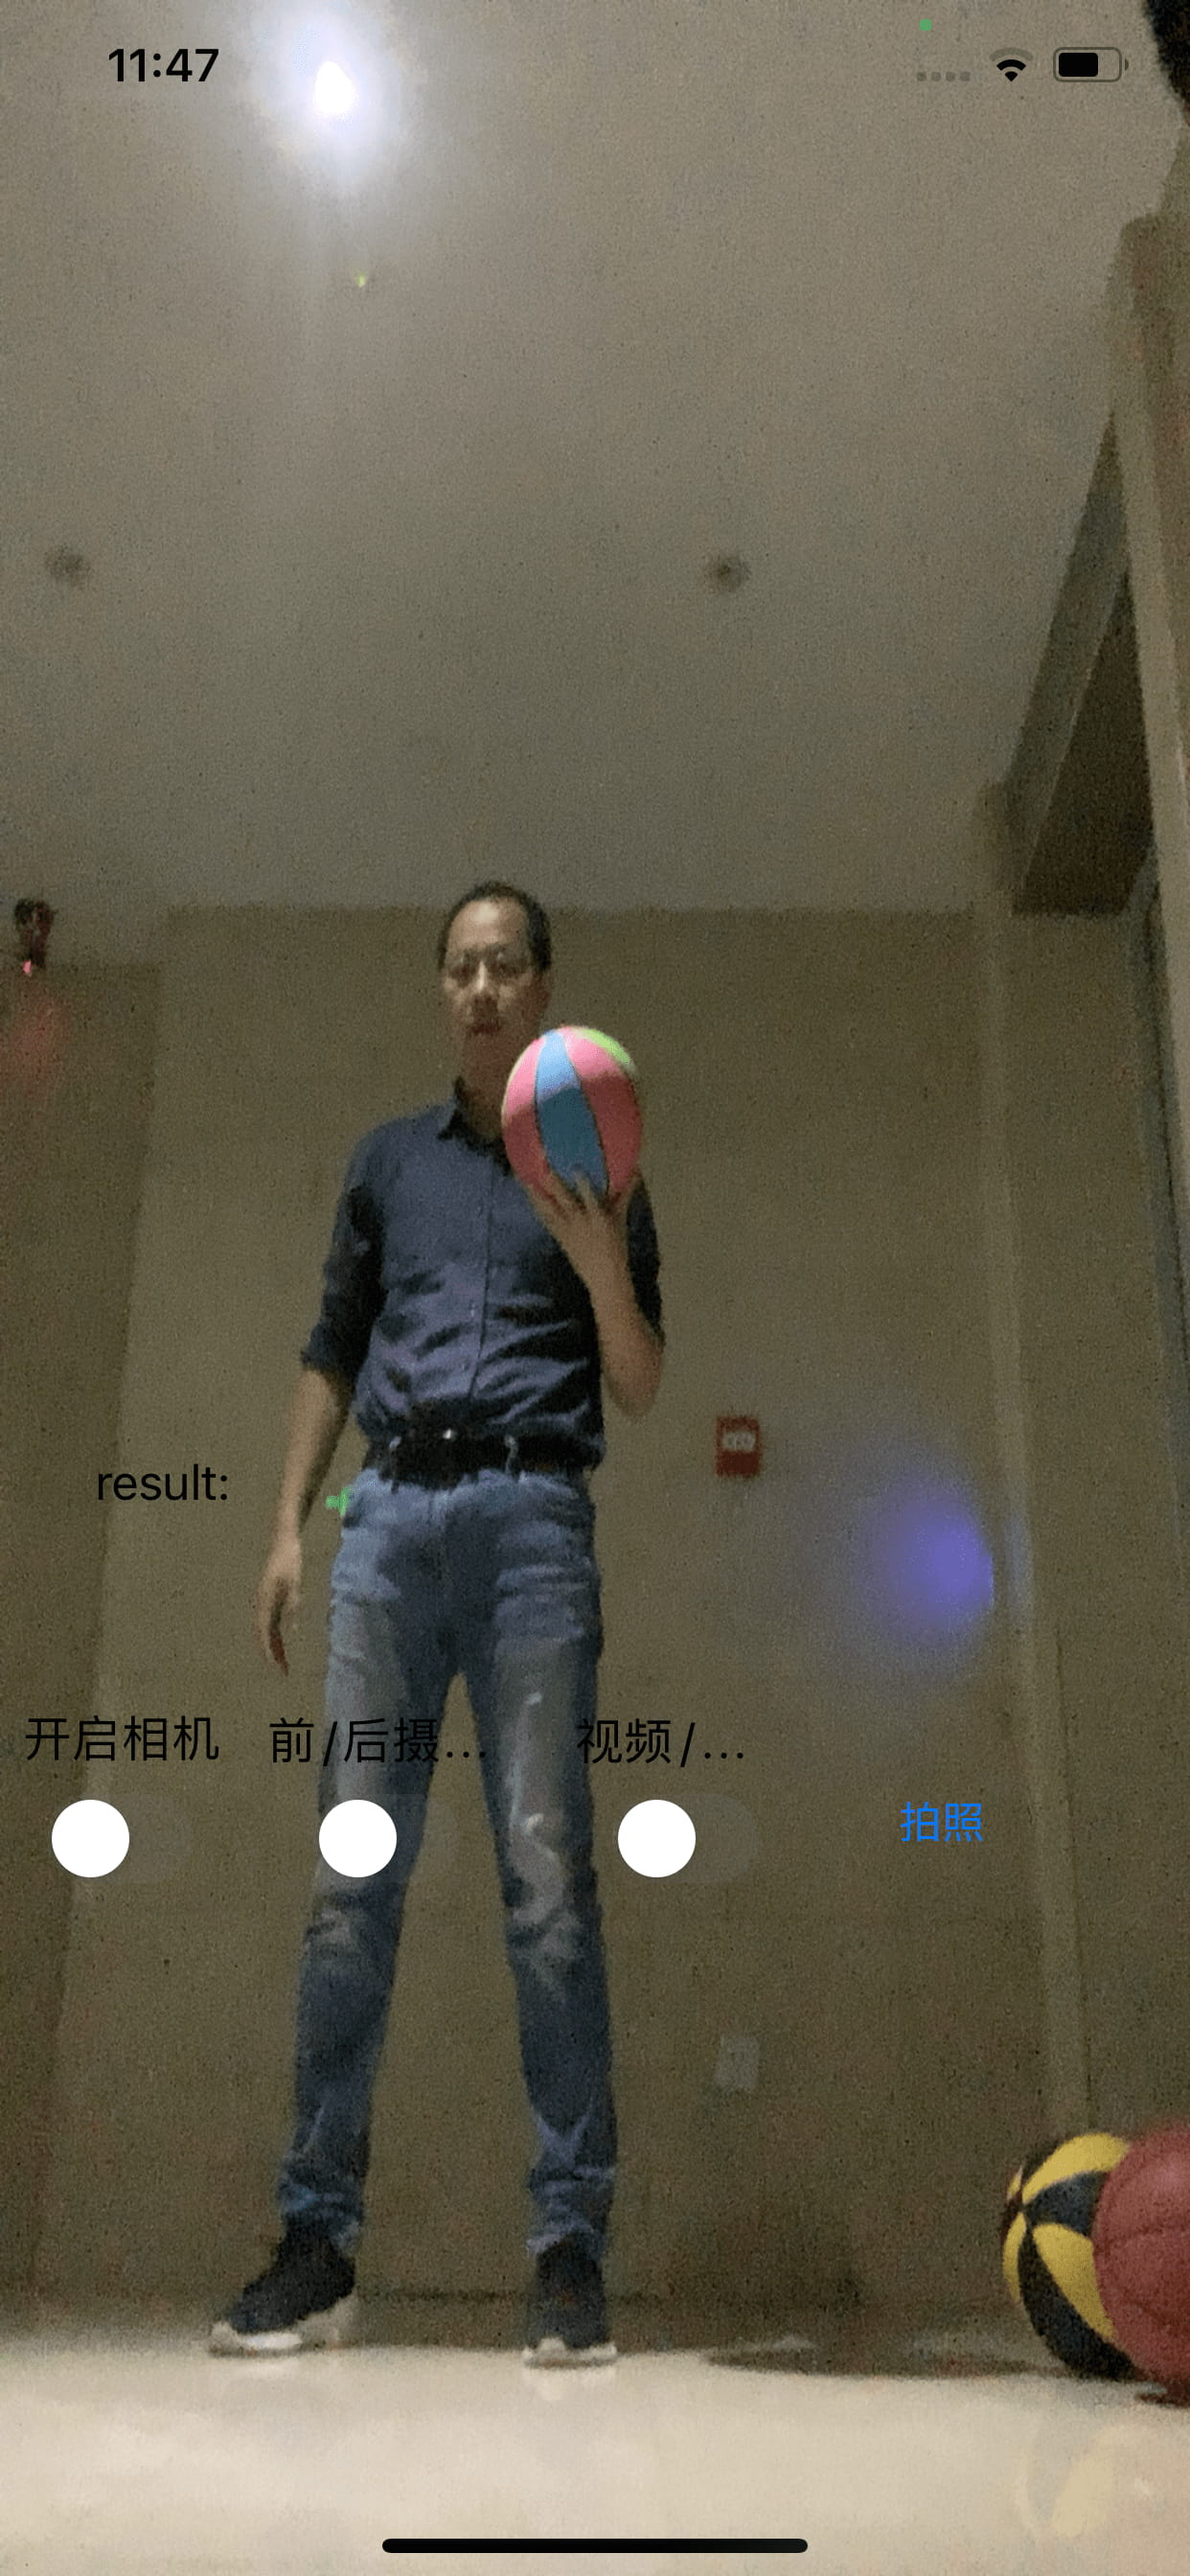ball: (1008, 2132, 1123, 2389), (505, 1022, 646, 1212), (1090, 2136, 1190, 2402)
